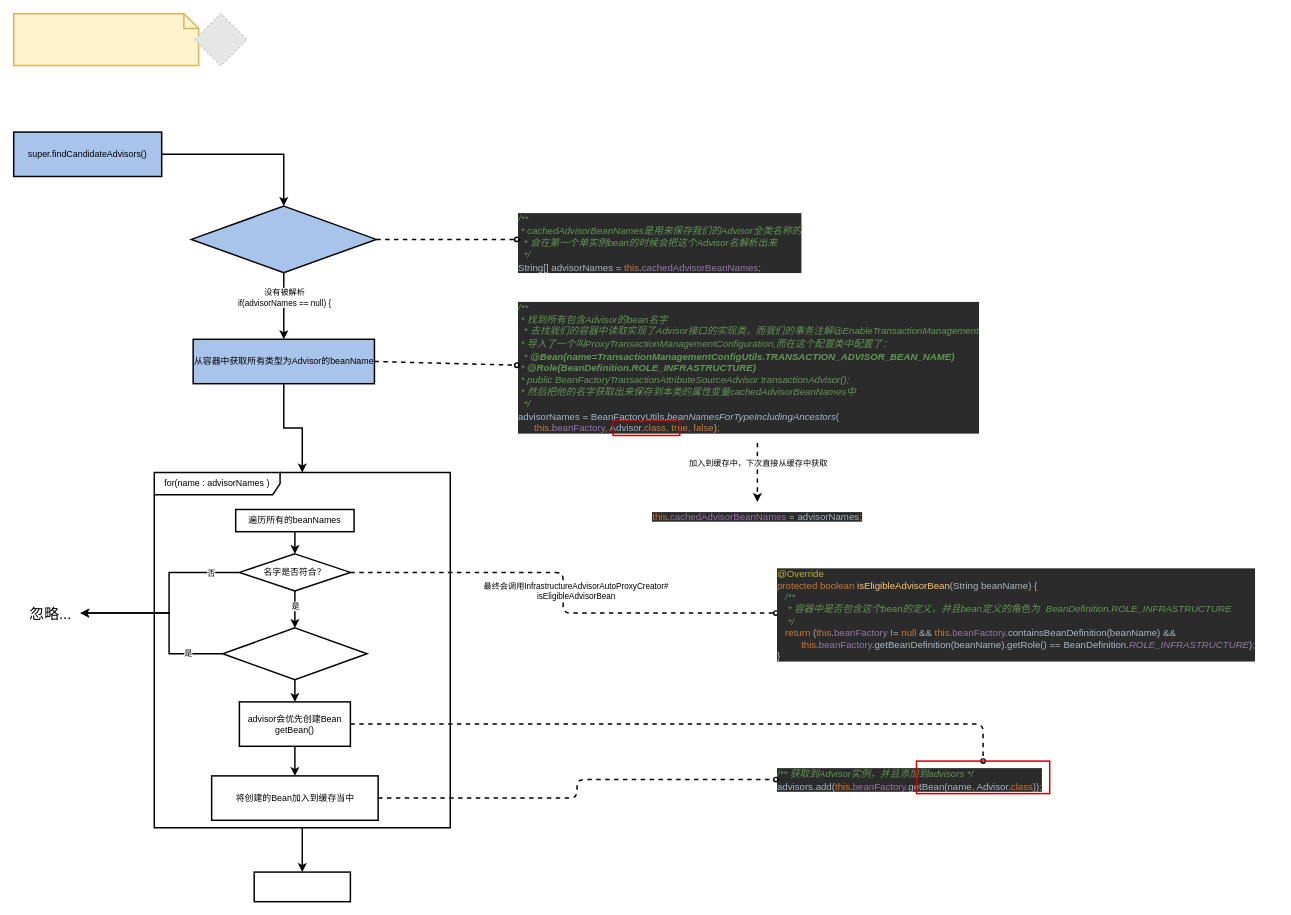
This 1291x915 diagram has some shape labels left out. Grey dashed boxes stand in for pictures. Here are the shapes that lost their labels. From the top down, the box of each, then its label:
(13, 13, 199, 66): 此图结合《AOP解析》一起看
(190, 205, 377, 273): 是否被解析过？ 这里只会解析一次，后续保存到缓存中
(222, 627, 367, 680): 当前bean是否正在创建？ isCurrentlyInCreation()
(253, 871, 351, 902): return advisors
